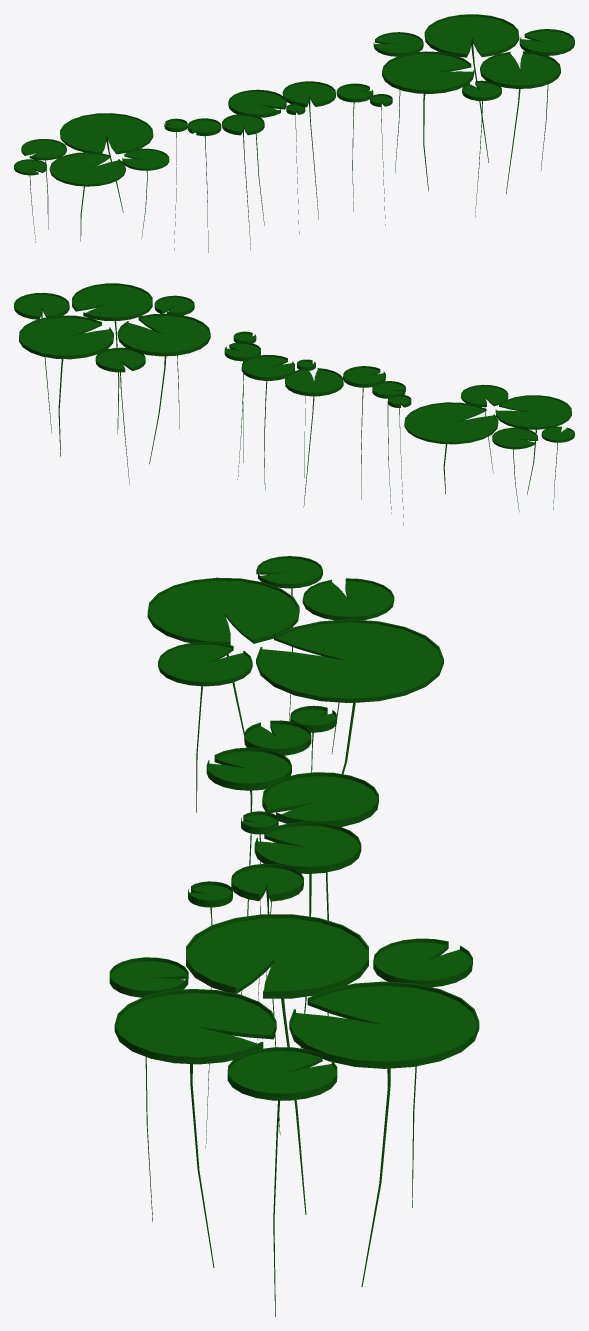
File: lily_pads.glb
3 views of the same model, one above another, from view 1: azimuth 30°, elevation 25°; view 2: azimuth 150°, elevation 25°; view 3: azimuth 270°, elevation 25° (orthographic). The views are drawn at different scales.
Parts seen in each view (by area): view 1: Object_2, Object_3; view 2: Object_2, Object_3; view 3: Object_2, Object_3.
Boxes of the visible parts, bbox=[...] form: Object_2: bbox=[14, 14, 574, 252]; Object_3: bbox=[14, 91, 501, 242]; Object_2: bbox=[14, 283, 574, 525]; Object_3: bbox=[154, 307, 574, 510]; Object_2: bbox=[109, 556, 479, 1316]; Object_3: bbox=[109, 573, 361, 1222].
Size of the model in its own units: 172 by 37.72 by 49.7.
Materials: 1 (1 with a texture image).
